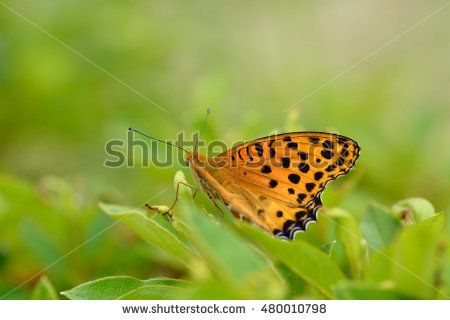Argyreus hyperbius: (122, 106, 361, 241)
butterfly: (124, 108, 363, 243)
